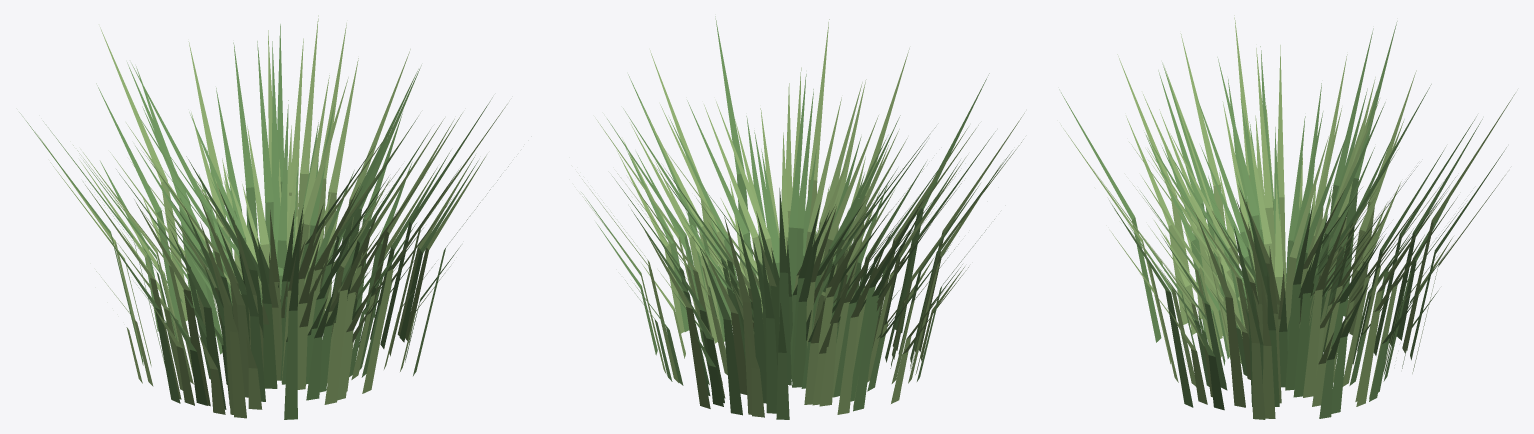
Rendered from grass-clump.glb.
3 renders of one model, left to right at view 1: azimuth 30°, elevation 25°; view 2: azimuth 150°, elevation 25°; view 3: azimuth 270°, elevation 25°, orthographic. The views are drawn at different scales.
Visible parts, largest first — view 1: catalog_surface_RealismUV; view 2: catalog_surface_RealismUV; view 3: catalog_surface_RealismUV.
Boxes of the visible parts, x1,y1,x2,y2 form: catalog_surface_RealismUV: (19,15,508,419); catalog_surface_RealismUV: (579,16,1024,419); catalog_surface_RealismUV: (1059,15,1515,419).
Size of the model in its own units: 0.3 by 0.18 by 0.3.
